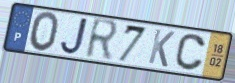7: (117, 23, 149, 63)
C: (173, 33, 207, 73)
J: (59, 16, 90, 56)
K: (147, 27, 177, 69)
O: (28, 10, 61, 54)
R: (83, 16, 121, 63)
